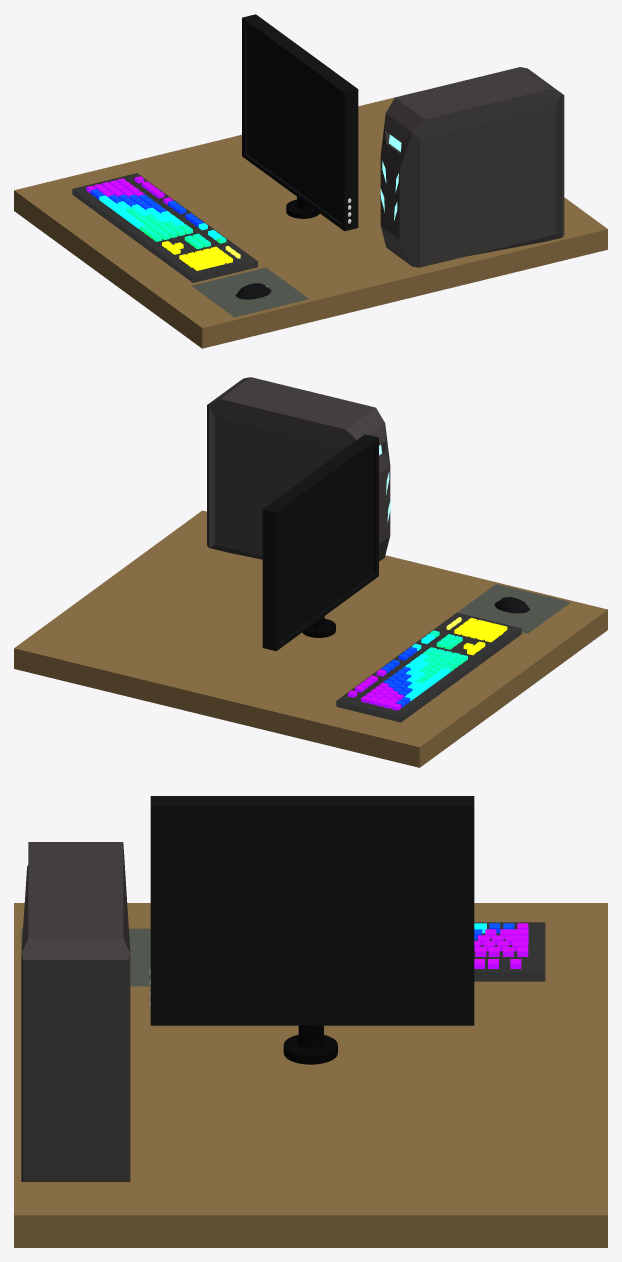
The model's file is lowpoly_pc.glb.
3 renders of one model, top to bottom at view 1: azimuth 30°, elevation 25°; view 2: azimuth 150°, elevation 25°; view 3: azimuth 270°, elevation 25°, orthographic. The views are drawn at different scales.
Visible parts, largest first — view 1: Cube, Cube.113, Cube.109, Keyboard Body, Plane; view 2: Cube, Cube.113, Cube.109, Keyboard Body, Plane; view 3: Cube, Cube.109, Cube.113, Keyboard Body, Plane, Cylinder.
Boxes of the visible parts, x1,y1,x2,y2 form: Cube: (14, 91, 607, 348); Cube.113: (380, 67, 564, 267); Cube.109: (242, 14, 358, 231); Keyboard Body: (72, 173, 257, 282); Plane: (191, 267, 308, 317); Cube: (14, 510, 607, 767); Cube.113: (207, 377, 390, 561); Cube.109: (262, 434, 378, 651); Keyboard Body: (336, 612, 521, 722); Plane: (457, 584, 570, 633); Cube: (14, 903, 607, 1247); Cube.109: (150, 796, 474, 1025); Cube.113: (21, 842, 130, 1181); Keyboard Body: (474, 922, 545, 981); Plane: (21, 928, 150, 986); Cylinder: (283, 1034, 337, 1064).
Bounding box in the file's own units: 27.35 × 11.7 × 21.98.
